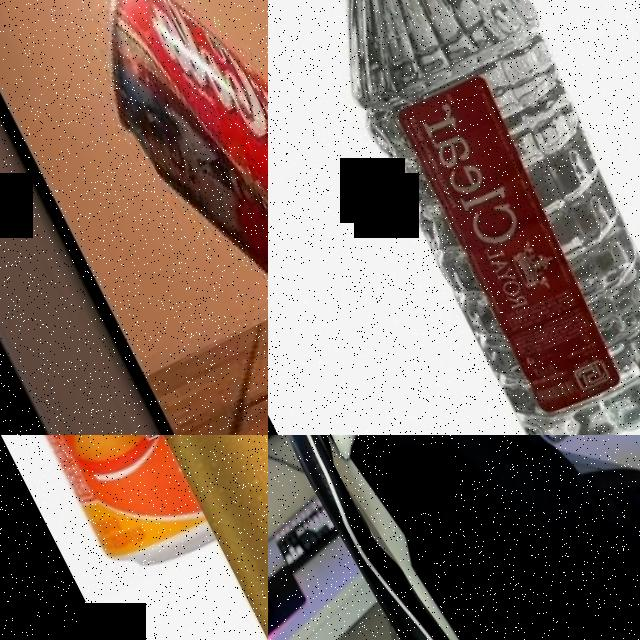bottle: (268, 0, 640, 435)
can: (57, 0, 268, 435), (0, 435, 268, 589), (99, 435, 268, 640)
